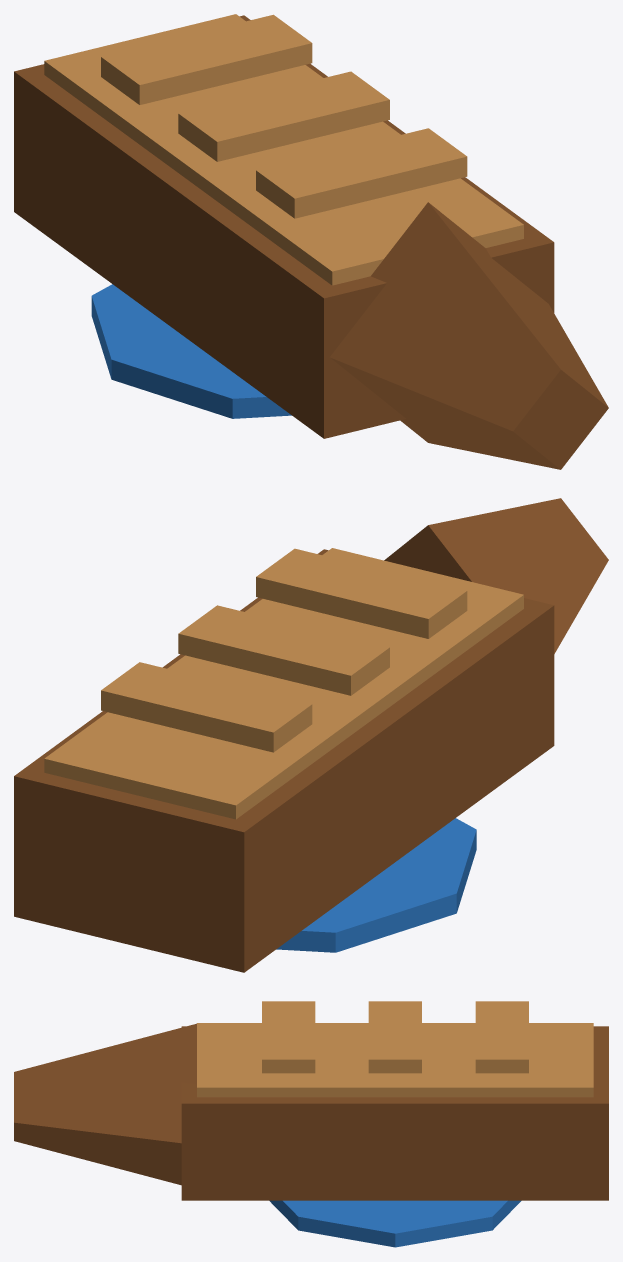
File: log_flume_boat.glb
3 renders of one model, top to bottom at view 1: azimuth 30°, elevation 25°; view 2: azimuth 150°, elevation 25°; view 3: azimuth 270°, elevation 25°, orthographic. The views are drawn at different scales.
Visible parts, largest first — view 1: log_flume_boat; view 2: log_flume_boat; view 3: log_flume_boat.
Part boxes in pixels (left/top/right/bottom): log_flume_boat: left=14, top=14, right=608, bottom=469; log_flume_boat: left=14, top=498, right=608, bottom=972; log_flume_boat: left=14, top=1001, right=608, bottom=1247.
Size of the model in its own units: 1.8 by 1.2 by 3.9.
